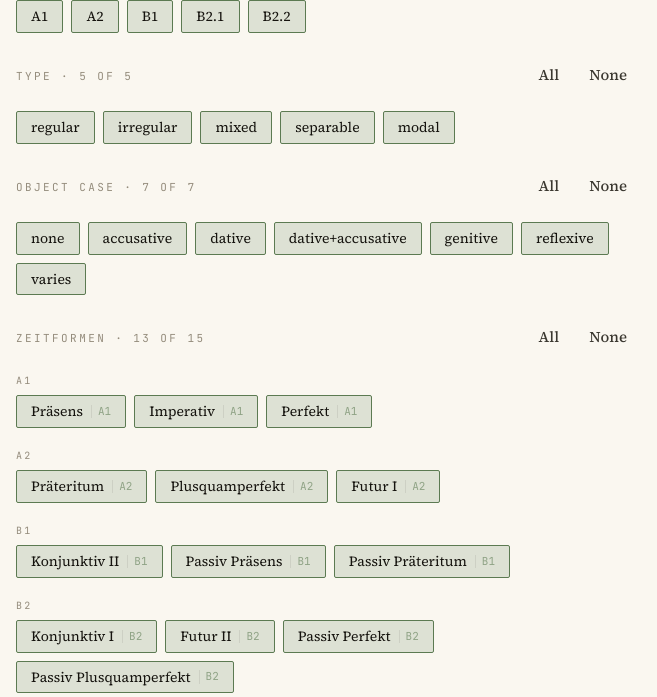
VerbSentenceSetup Zeitformen › None empties the selection and disables Start
This screenshot has width=657, height=697.
(page scrolled)
Click the button "None" in the row of "Zeitformen · 13 of 15": x=608, y=337 [576,319,640,355]
(page scrolled)
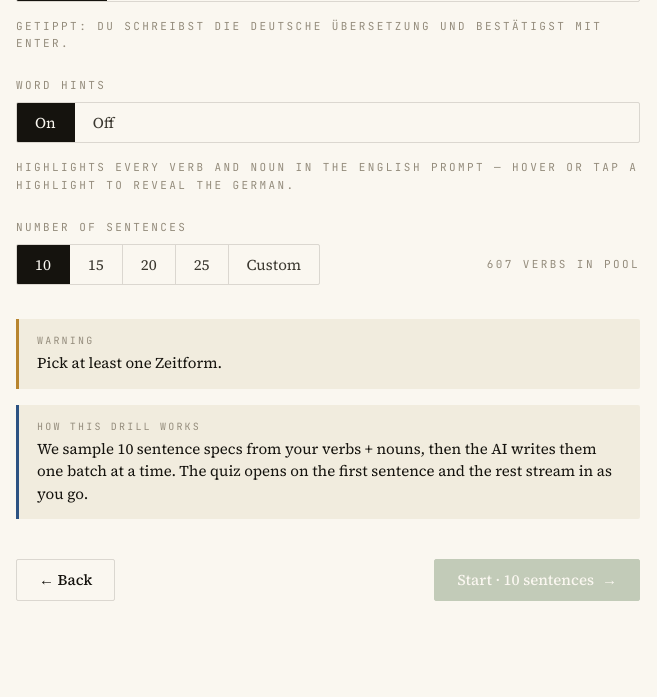
Check: the text "Pick at least one Zeitform" is shown, box [37,352,222,373]
Check: the button "Start · 10 sentences →" is disabled, box [434,559,640,601]
